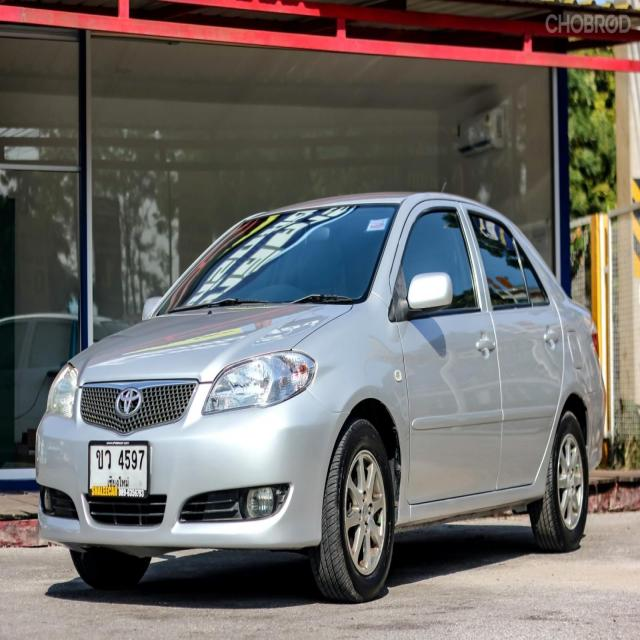license_plate: (84, 436, 155, 510)
